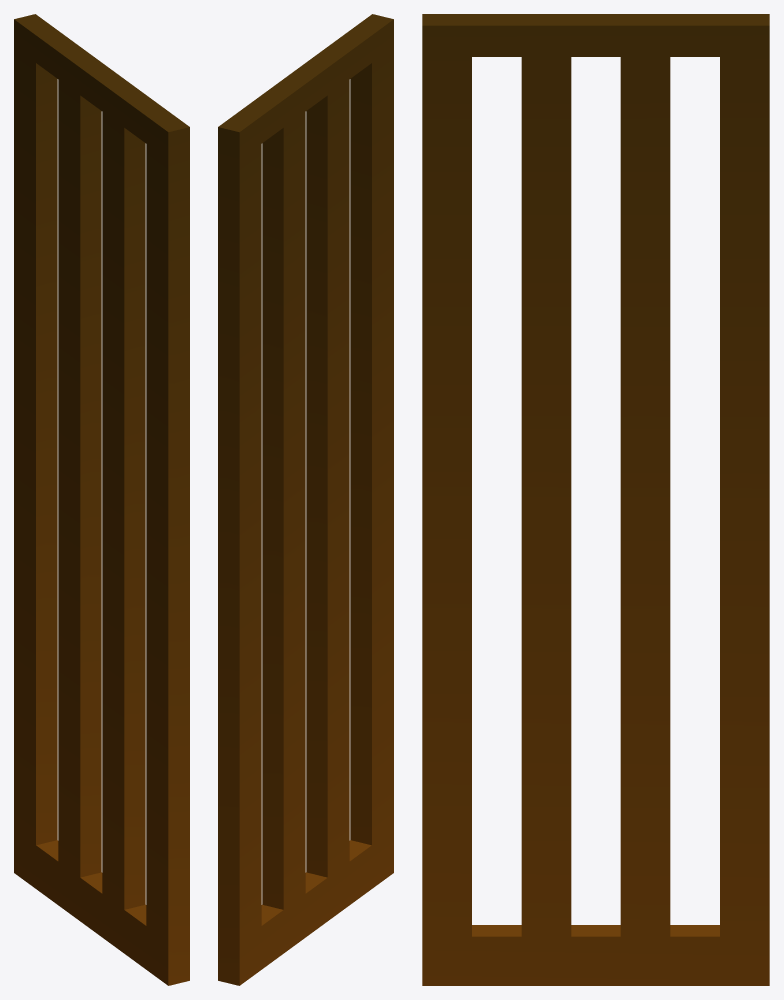
The model's file is B01_Paravent.fbx.
The picture shows the model from 3 angles, left to right: view 1: azimuth 30°, elevation 25°; view 2: azimuth 150°, elevation 25°; view 3: azimuth 270°, elevation 25°; orthographic projection. The views are drawn at different scales.
Visible parts, largest first — view 1: B01_Paravent; view 2: B01_Paravent; view 3: B01_Paravent.
Boxes of the visible parts, x1,y1,x2,y2 form: B01_Paravent: [14, 14, 189, 985]; B01_Paravent: [218, 14, 393, 985]; B01_Paravent: [422, 14, 769, 985].
Bounding box in the file's own units: 8.03 × 305 × 100.
